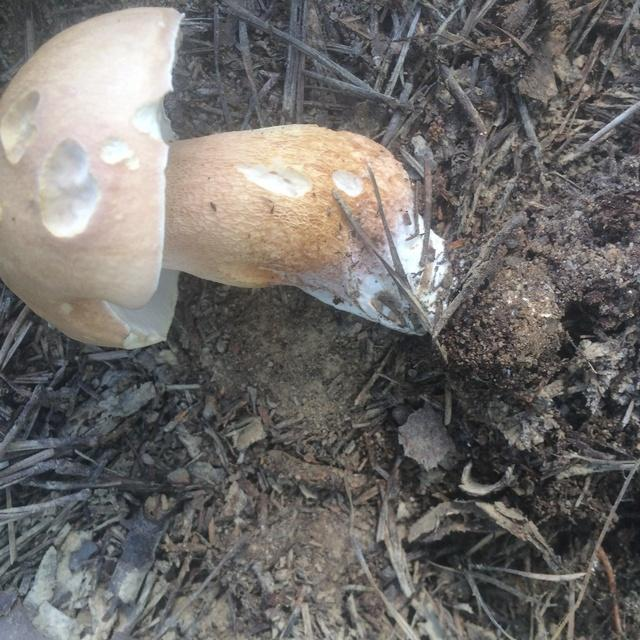poisonous_mushroom: (0, 5, 454, 350)
